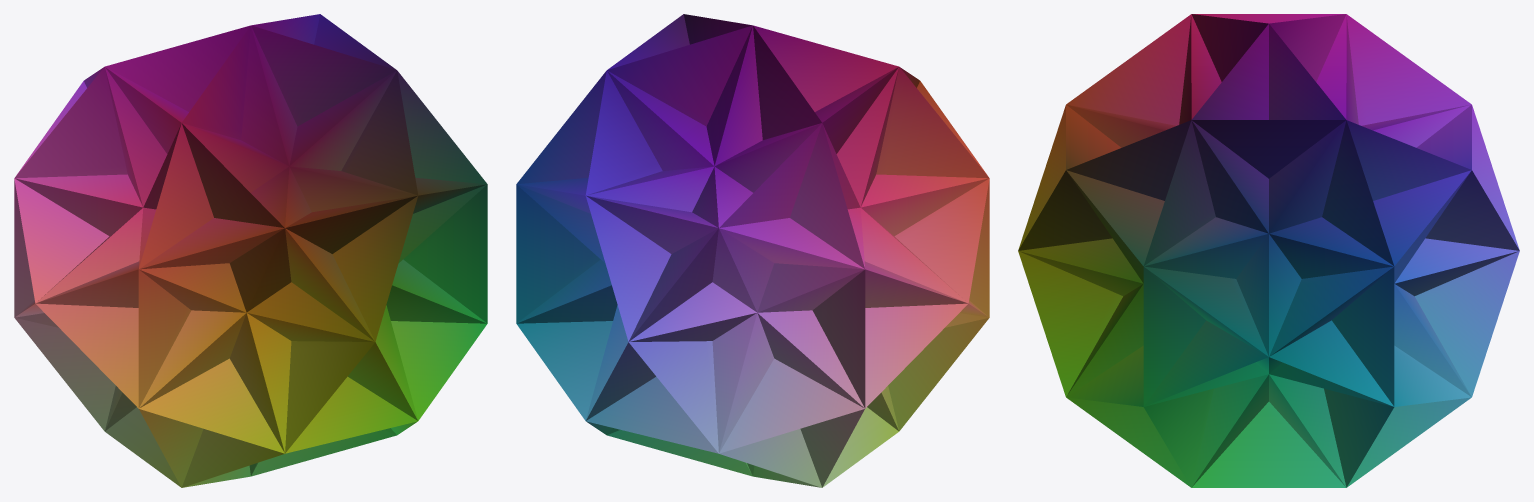
Rendered from zeometry-polyhedra-carved-dodecahedron_v1.glb.
3 views of the same model, side by side, from view 1: azimuth 30°, elevation 25°; view 2: azimuth 150°, elevation 25°; view 3: azimuth 270°, elevation 25° (orthographic).
Visible parts, largest first — view 1: Carved Dodecahedron_v1; view 2: Carved Dodecahedron_v1; view 3: Carved Dodecahedron_v1.
Part boxes in pixels (x1=…): Carved Dodecahedron_v1: x1=14, y1=14, x2=487, y2=487; Carved Dodecahedron_v1: x1=516, y1=14, x2=989, y2=487; Carved Dodecahedron_v1: x1=1018, y1=14, x2=1519, y2=487.
Bounding box in the file's own units: 0.5 × 0.5 × 0.5.
